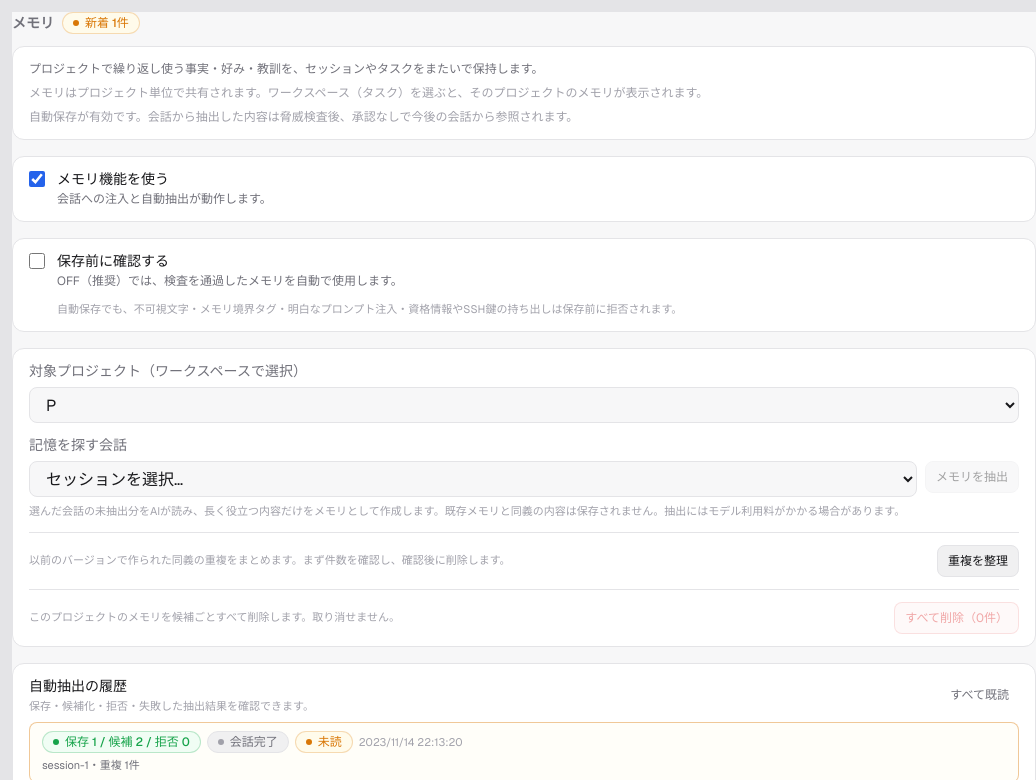
Test: MemorySettings › shows unread extraction results and marks them read explicitly
Check: the text "新着 1件" is shown, box [62,12,140,34]
Check: the text "保存 1 / 候補 2 / 拒否 0" is shown, box [42,731,201,753]
Click the button "すべて既読" at (980,695), box [940,679,1019,711]
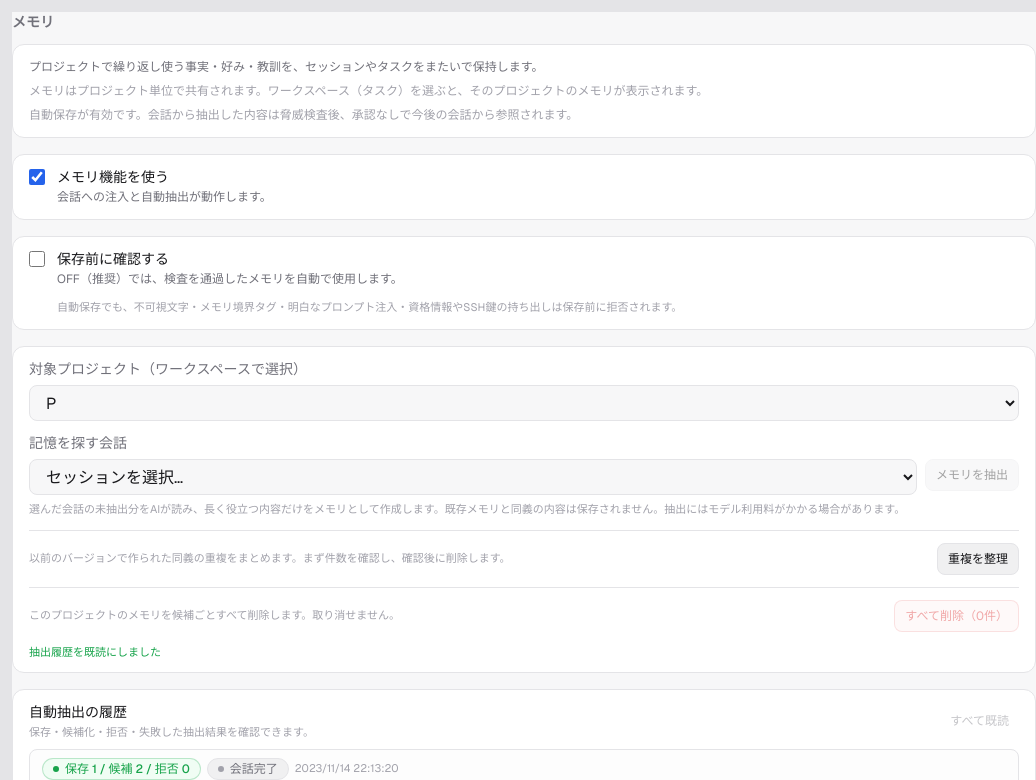
Check: the text "新着 1件" is gone
